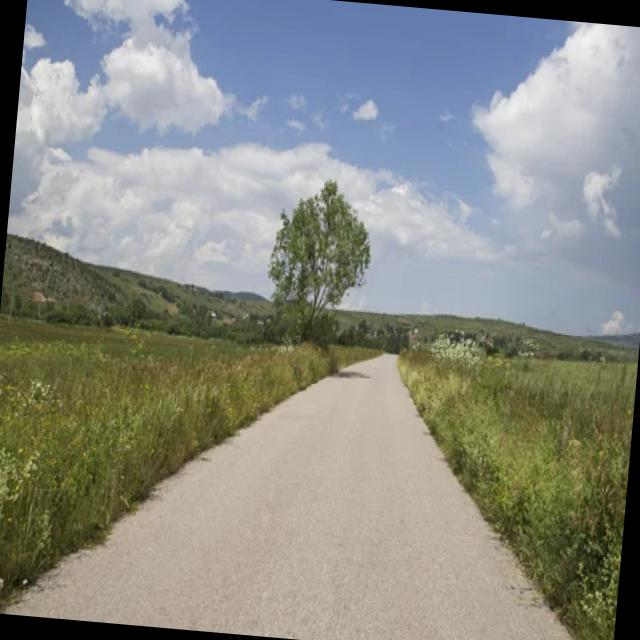cement: (0, 353, 570, 640)
grass: (0, 321, 375, 600), (397, 337, 637, 640)
